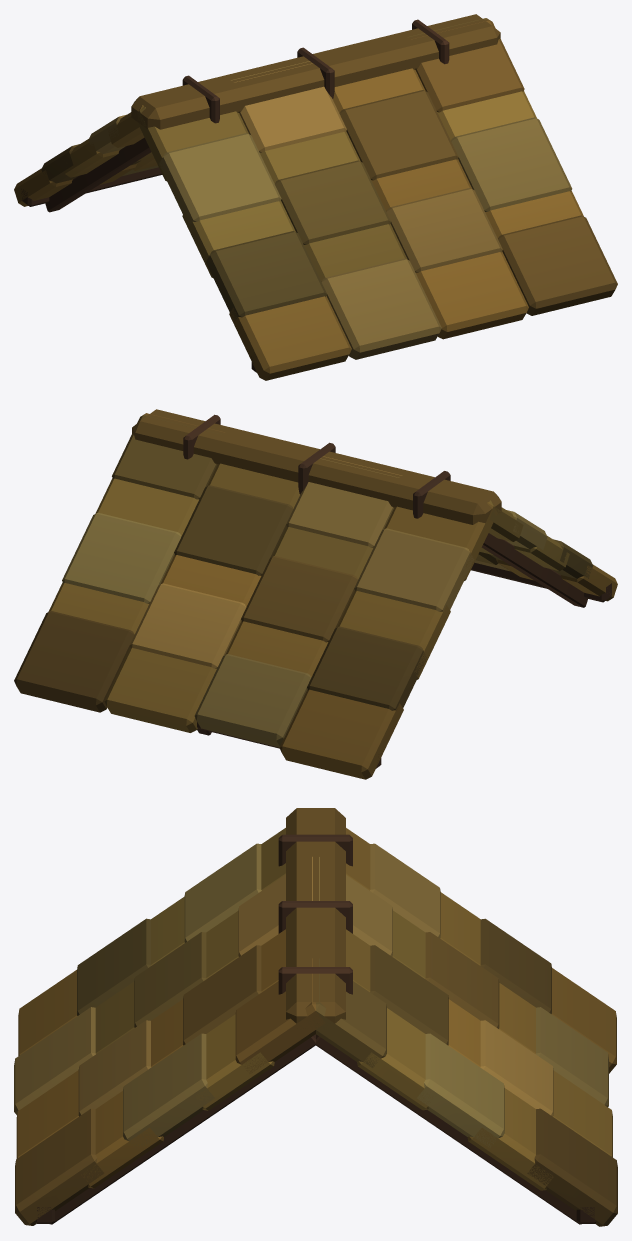
File: piece_thatchridge.glb
3 renders of one model, top to bottom at view 1: azimuth 30°, elevation 25°; view 2: azimuth 150°, elevation 25°; view 3: azimuth 270°, elevation 25°, orthographic. The views are drawn at different scales.
Visible parts, largest first — view 1: Base; view 2: Base; view 3: Base.
Boxes of the visible parts, box(x1,y1,x2,y2) form: Base: box(14, 14, 617, 380); Base: box(14, 409, 617, 779); Base: box(14, 808, 617, 1226).
Size of the model in its own units: 4 by 2.15 by 5.03.
